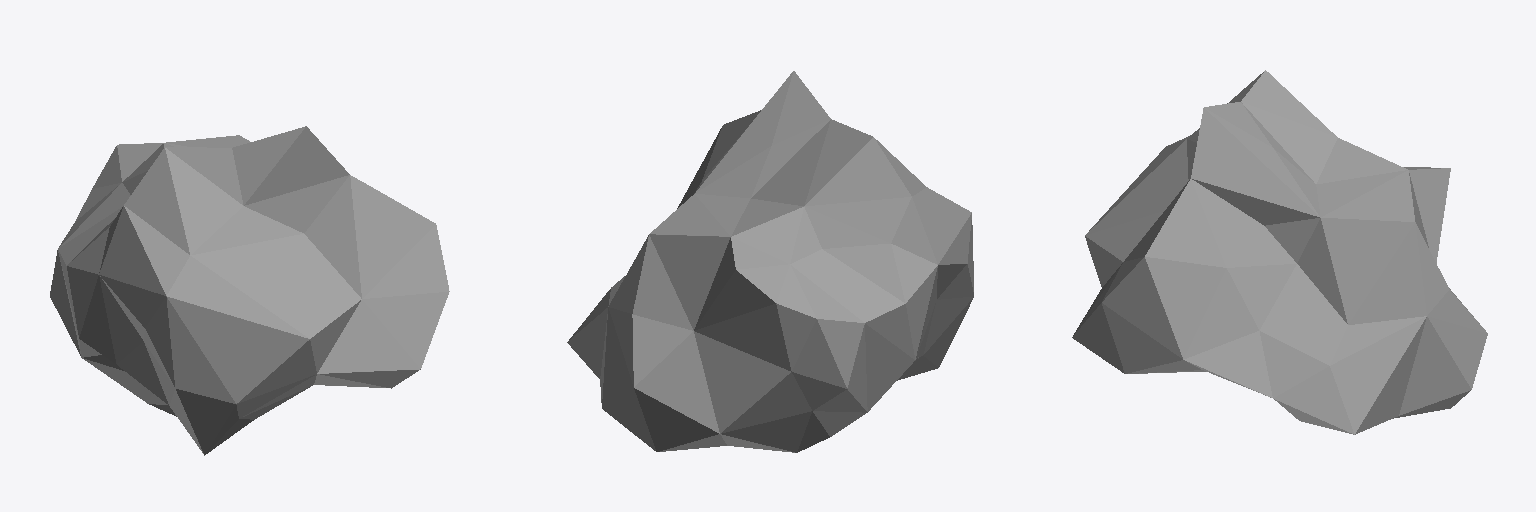
The model's file is Meteor.obj.
The picture shows the model from 3 angles: view 1: azimuth 30°, elevation 25°; view 2: azimuth 150°, elevation 25°; view 3: azimuth 270°, elevation 25°; orthographic projection.
Visible parts, largest first — view 1: Meteor; view 2: Meteor; view 3: Meteor.
Boxes of the visible parts, <box> form: Meteor: <box>50,126,449,455</box>; Meteor: <box>567,71,973,452</box>; Meteor: <box>1072,70,1487,434</box>.
Size of the model in its own units: 1.65 by 1.49 by 1.82.